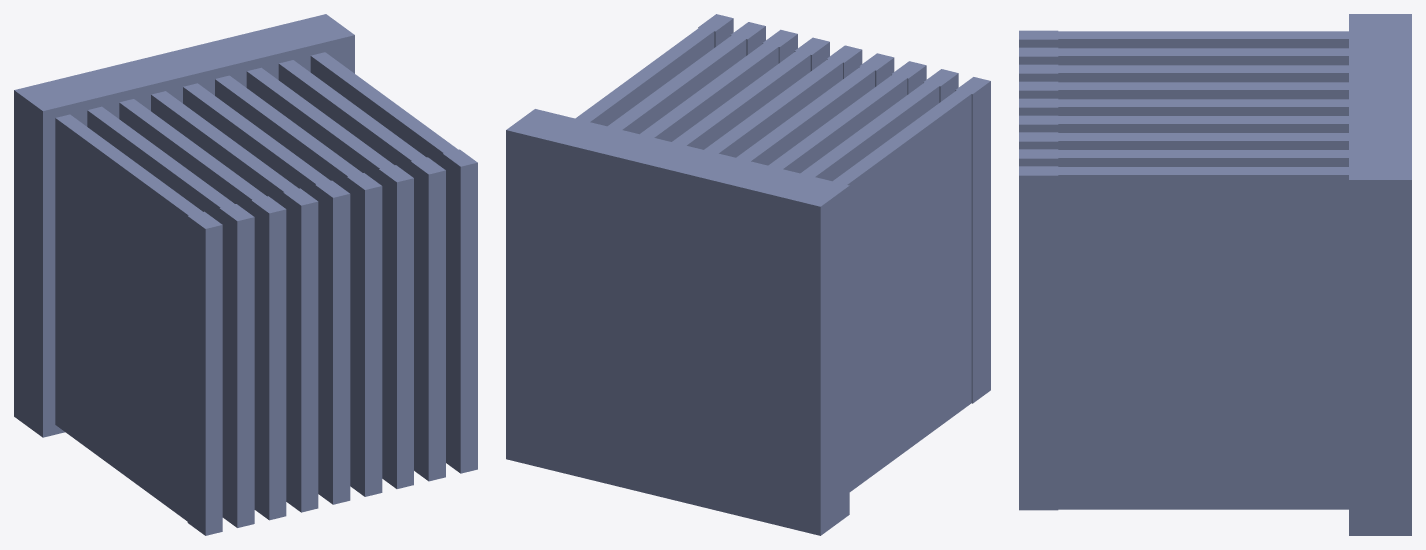
The model's file is sink-fins.glb.
3 renders of one model, left to right at view 1: azimuth 30°, elevation 25°; view 2: azimuth 150°, elevation 25°; view 3: azimuth 270°, elevation 25°, orthographic. The views are drawn at different scales.
Bounding box in the file's own units: 1 × 1 × 1.
